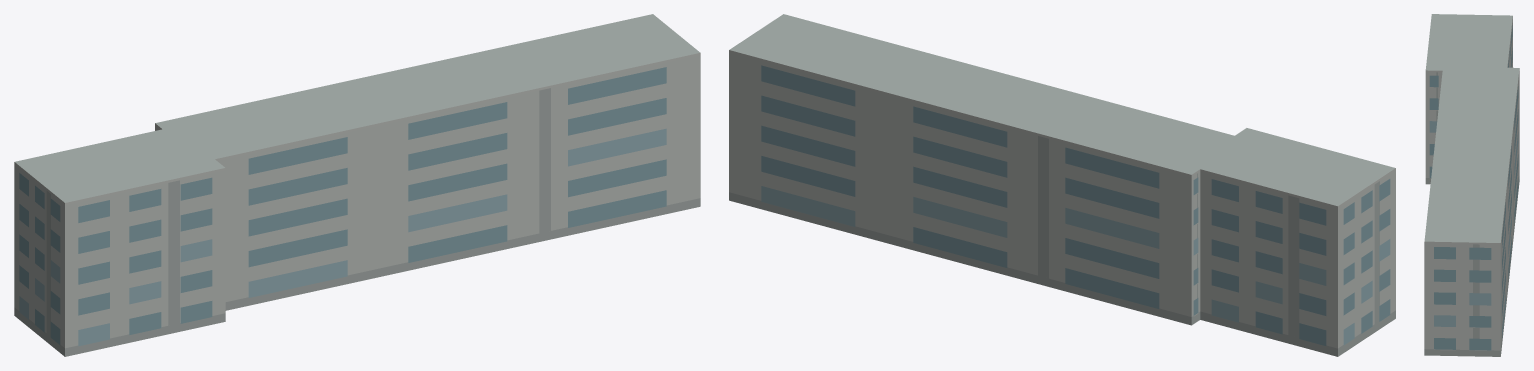
File: residential-77e4446a-b290-4017-b844-545931859f9e.glb
3 renders of one model, left to right at view 1: azimuth 30°, elevation 25°; view 2: azimuth 150°, elevation 25°; view 3: azimuth 270°, elevation 25°, orthographic. The views are drawn at different scales.
Parts seen in each view (by area): view 1: residential-77e4446a-b290-4017-b844-545931859f9e.tmp; view 2: residential-77e4446a-b290-4017-b844-545931859f9e.tmp; view 3: residential-77e4446a-b290-4017-b844-545931859f9e.tmp.
Boxes of the visible parts, x1,y1,x2,y2 form: residential-77e4446a-b290-4017-b844-545931859f9e.tmp: [14, 14, 700, 356]; residential-77e4446a-b290-4017-b844-545931859f9e.tmp: [729, 14, 1395, 356]; residential-77e4446a-b290-4017-b844-545931859f9e.tmp: [1424, 14, 1519, 356].
Bounding box in the file's own units: 65.81 × 15.25 × 11.54.
